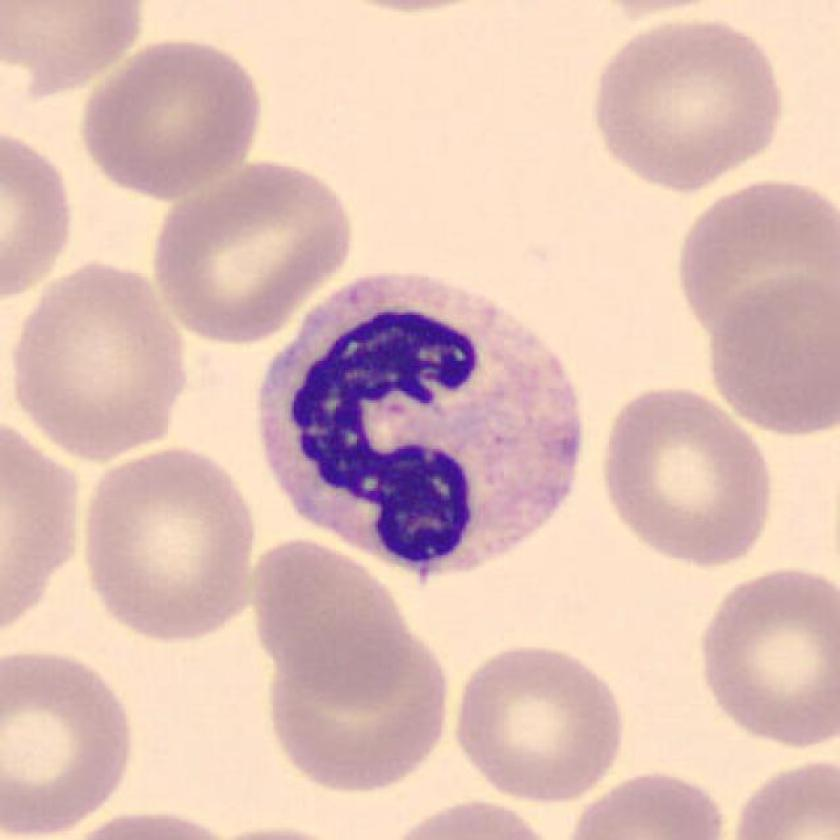neutrophil: (258, 277, 584, 575)
